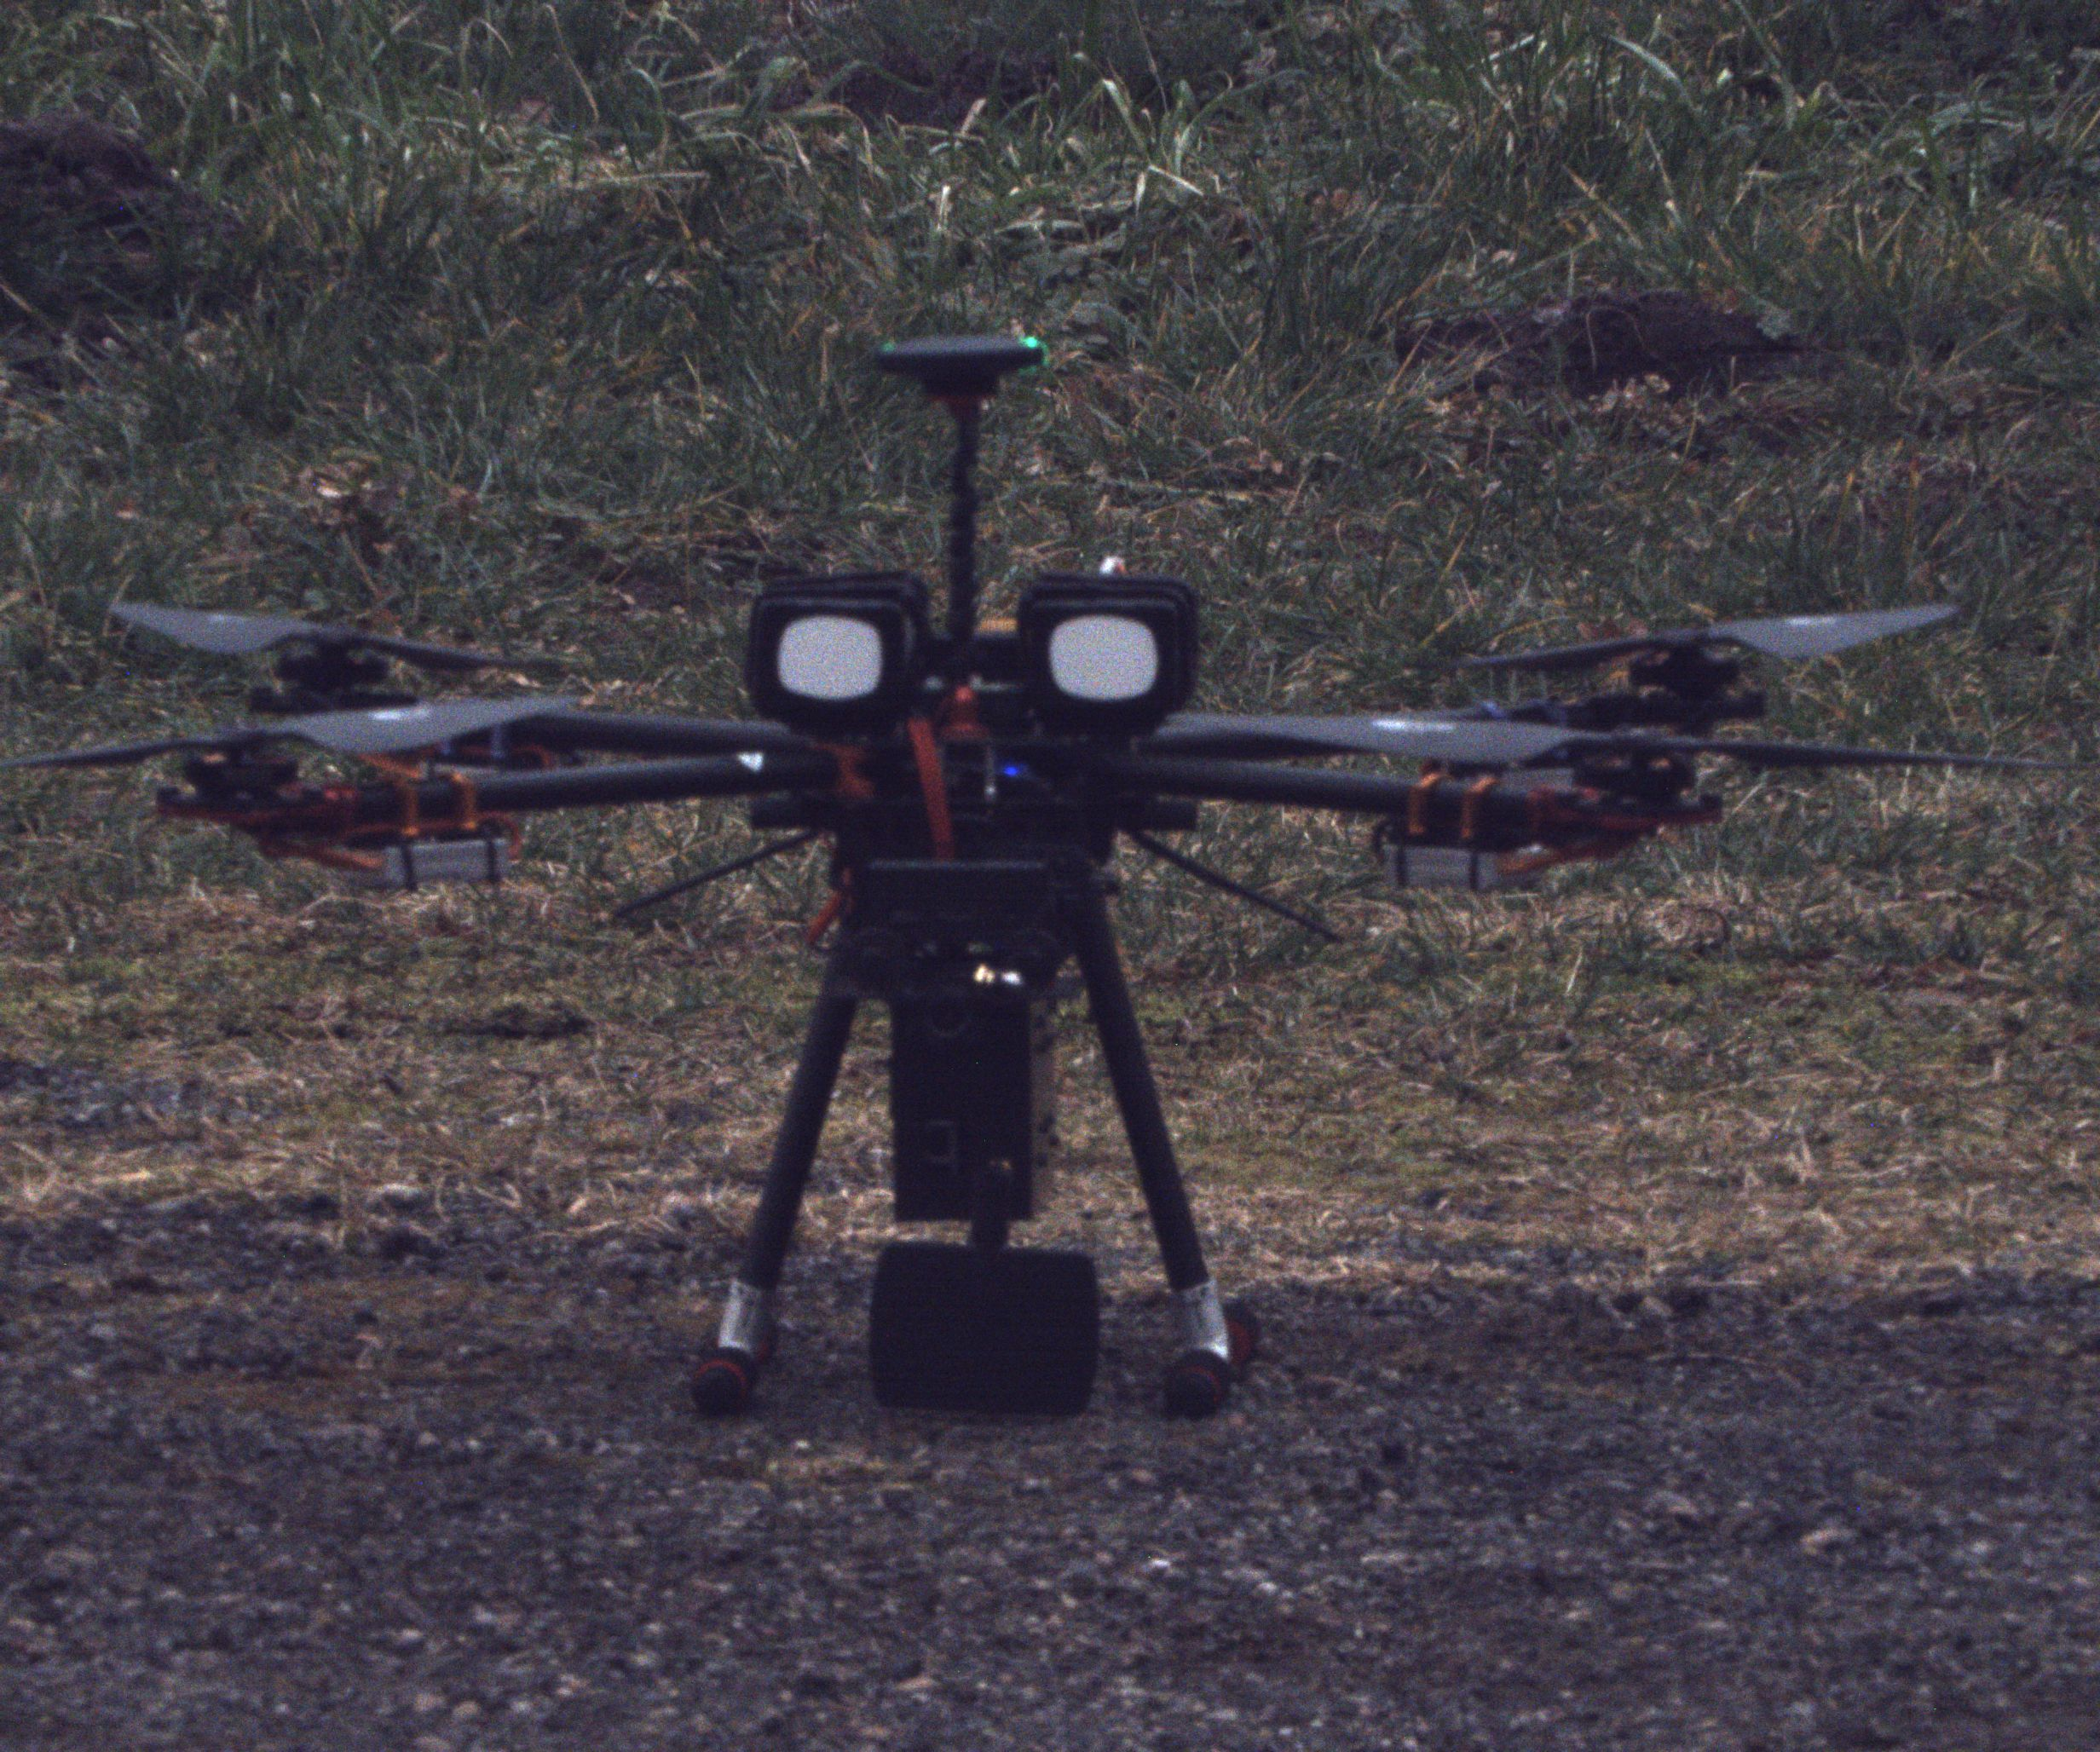Drohne: (23, 316, 2100, 1480)
